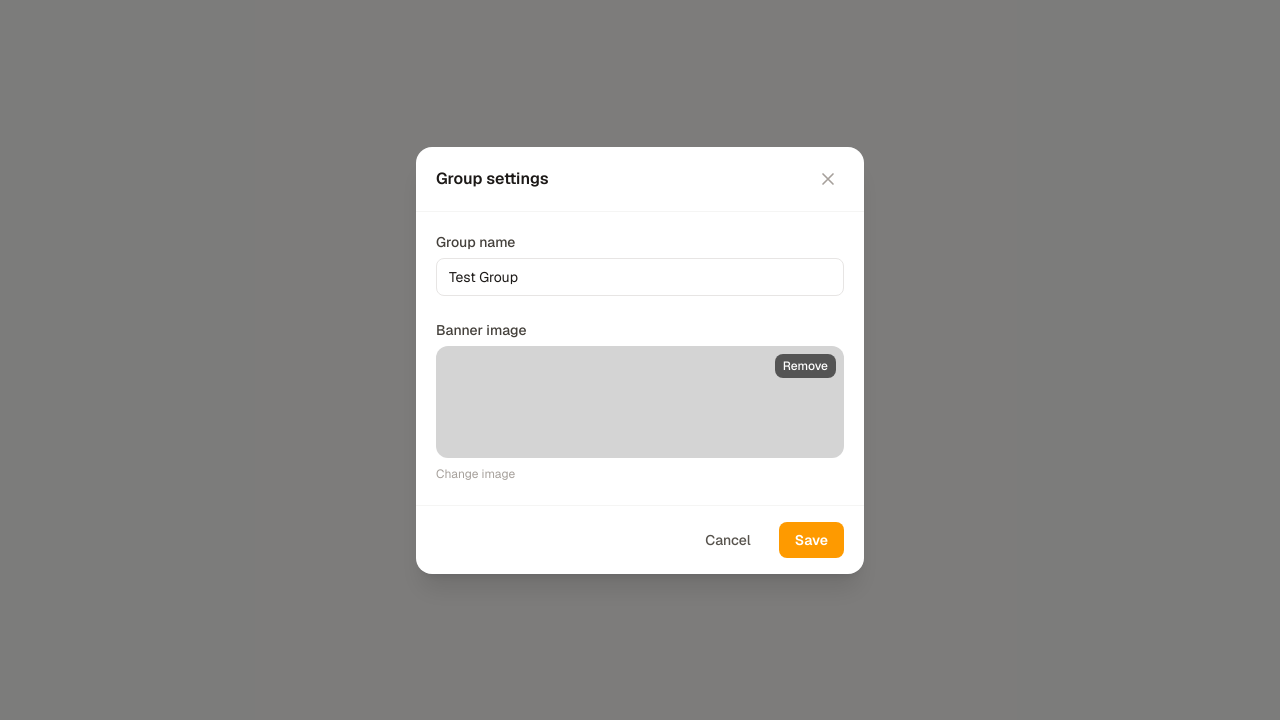
Test case: GroupSettingsModal › shows Remove button and clears banner when banner is set
Click the button "Remove" at coordinates (805, 366), box 775,354 -> 836,378
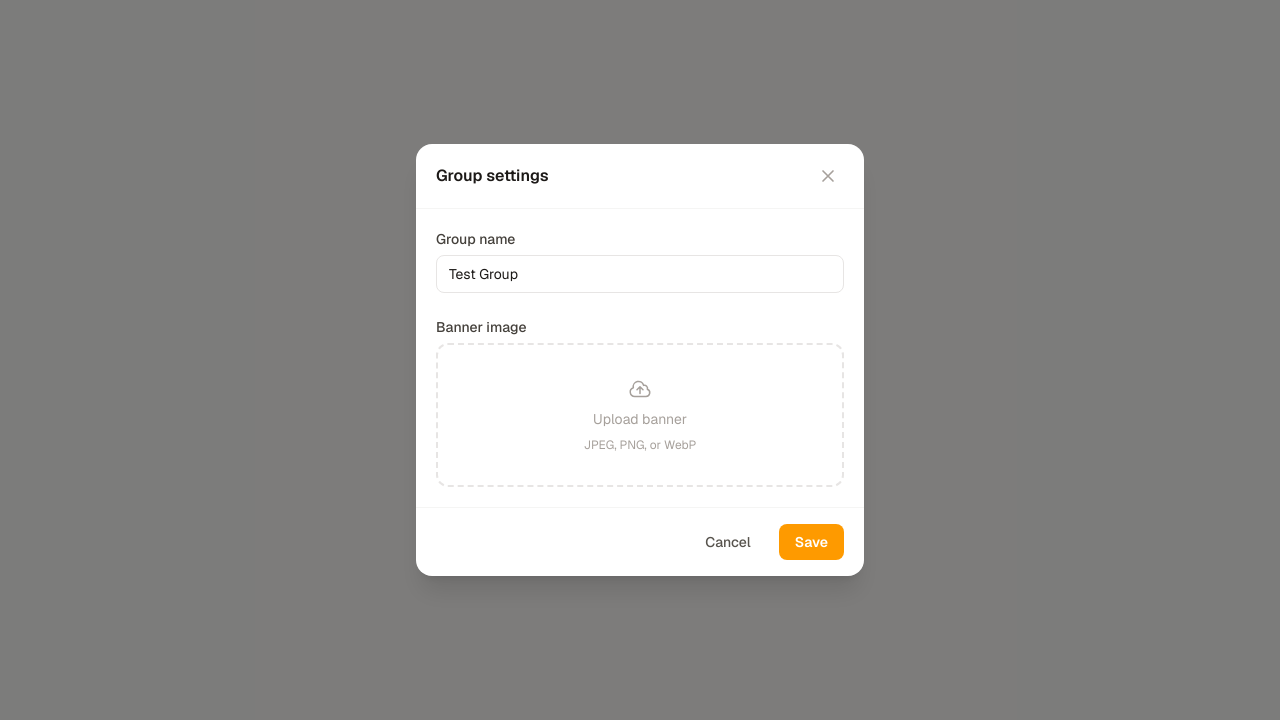
Expected: the text "Upload banner" is shown, 593,409 -> 687,429
